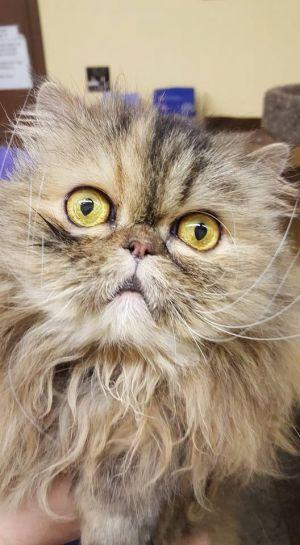persian: (1, 75, 300, 360)
